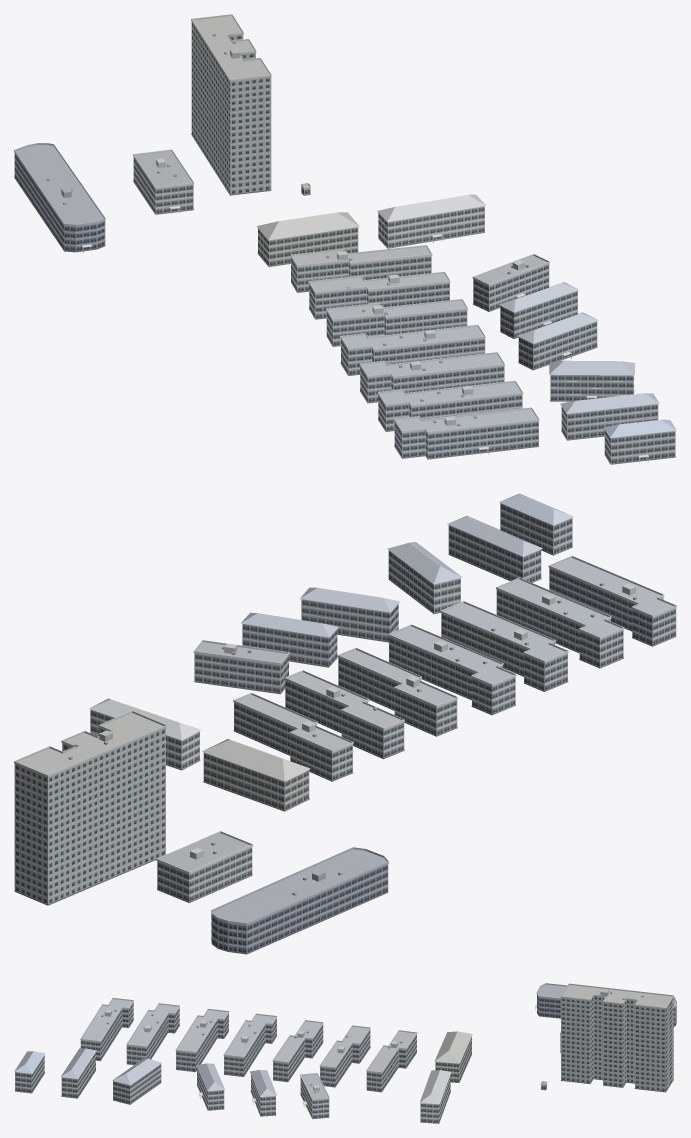
The picture shows the model from 3 angles, top to bottom: view 1: azimuth 30°, elevation 25°; view 2: azimuth 150°, elevation 25°; view 3: azimuth 270°, elevation 25°; orthographic projection. The views are drawn at different scales.
Parts seen in each view (by area): view 1: 1416956753, 1056872859, 1503263428, 1503263430, 1503263431, 1424986303, 1503263429, 1503263433, 1503263432, 1503263434, 1424986304, 1503263398 (+6 smaller); view 2: 1416956753, 1056872859, 1503263431, 1503263429, 1503263430, 1503263428, 1503263432, 1503263434, 1503263433, 1424986304, 1421104671, 1503263398 (+6 smaller); view 3: 1416956753, 1503263431, 1503263430, 1503263429, 1503263428, 1503263434, 1503263432, 1503263433, 1503263402, 1424986304, 1424986303, 1503263398 (+5 smaller).
Boxes of the visible parts, left/top/right/bottom form: 1416956753: left=191, top=14, right=271, bottom=195; 1056872859: left=14, top=143, right=105, bottom=252; 1503263428: left=394, top=407, right=539, bottom=459; 1503263430: left=359, top=352, right=504, bottom=403; 1503263431: left=340, top=324, right=485, bottom=375; 1424986303: left=377, top=194, right=486, bottom=248; 1503263429: left=377, top=380, right=523, bottom=431; 1503263433: left=308, top=271, right=450, bottom=319; 1503263432: left=326, top=299, right=467, bottom=346; 1503263434: left=290, top=245, right=432, bottom=292; 1424986304: left=256, top=212, right=359, bottom=266; 1503263398: left=560, top=393, right=659, bottom=440; 1416956753: left=14, top=710, right=166, bottom=905; 1056872859: left=211, top=847, right=388, bottom=954; 1503263431: left=388, top=624, right=516, bottom=715; 1503263429: left=496, top=577, right=624, bottom=668; 1503263430: left=440, top=601, right=568, bottom=691; 1503263428: left=548, top=555, right=676, bottom=646; 1503263432: left=337, top=647, right=457, bottom=736; 1503263434: left=233, top=692, right=353, bottom=781; 1503263433: left=284, top=670, right=404, bottom=759; 1424986304: left=202, top=739, right=310, bottom=811; 1421104671: left=156, top=831, right=253, bottom=902; 1503263398: left=447, top=516, right=542, bottom=582; 1416956753: left=560, top=983, right=673, bottom=1092; 1503263431: left=223, top=1013, right=277, bottom=1076; 1503263430: left=175, top=1008, right=229, bottom=1072; 1503263429: left=126, top=1003, right=179, bottom=1065; 1503263428: left=80, top=997, right=133, bottom=1061; 1503263434: left=366, top=1030, right=417, bottom=1092; 1503263432: left=272, top=1020, right=323, bottom=1082; 1503263433: left=319, top=1025, right=370, bottom=1087; 1503263402: left=112, top=1058, right=162, bottom=1104; 1424986304: left=434, top=1031, right=472, bottom=1082; 1424986303: left=419, top=1070, right=451, bottom=1123; 1503263398: left=61, top=1048, right=96, bottom=1098.
Bounding box in the file's own units: 203 × 68.4 × 471.
Materials: 5 (4 with a texture image).
